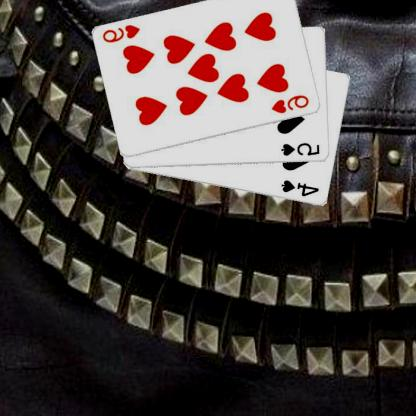4S: (281, 178, 322, 198)
5S: (280, 140, 324, 158)
9H: (271, 92, 312, 115), (102, 22, 143, 44)
